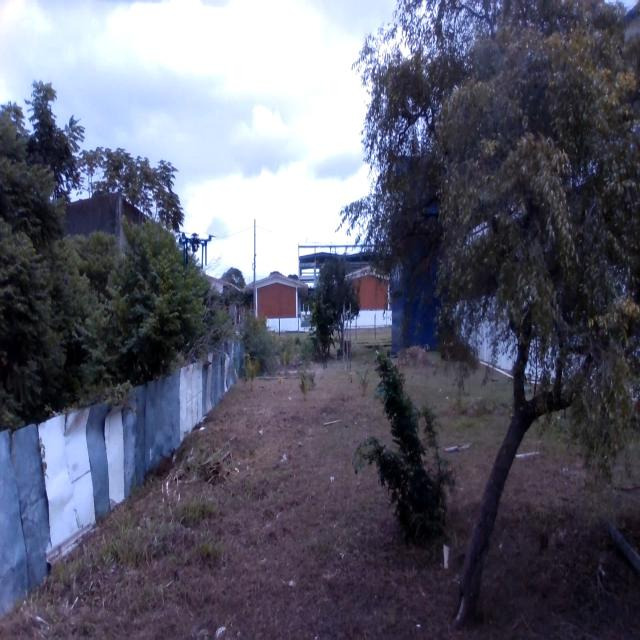-uav-: (171, 218, 217, 277)
